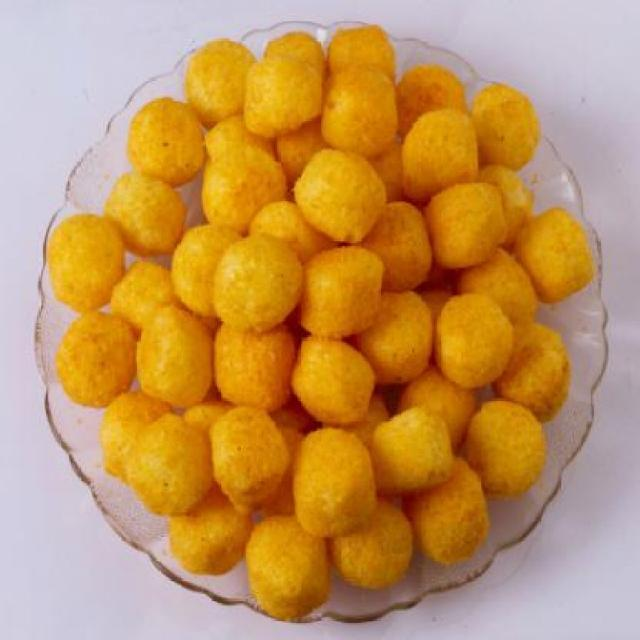Chips packaged: (128, 127, 528, 536)
